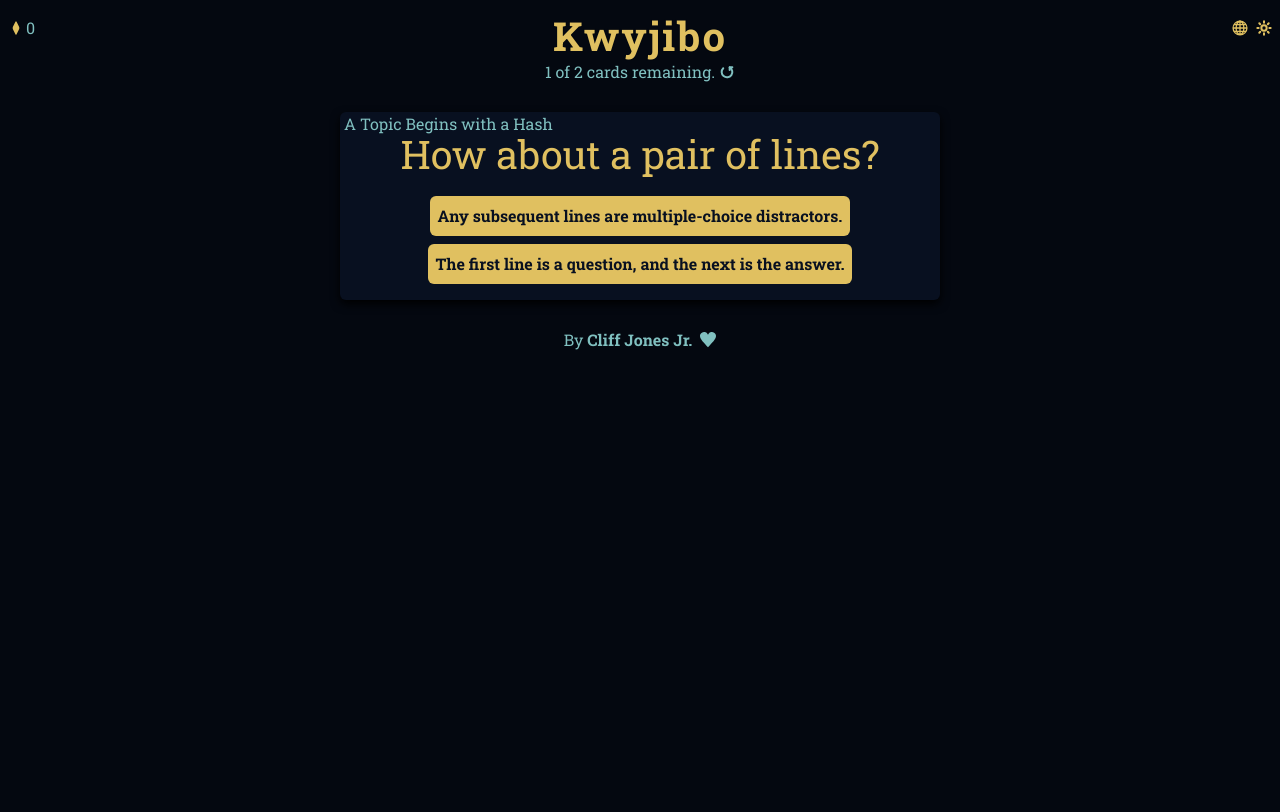
Scenario: App › renders the reset confirmation and dispatches reset when accepted
Click the button titled "Reset" at (727, 72), box [719,64,735,80]
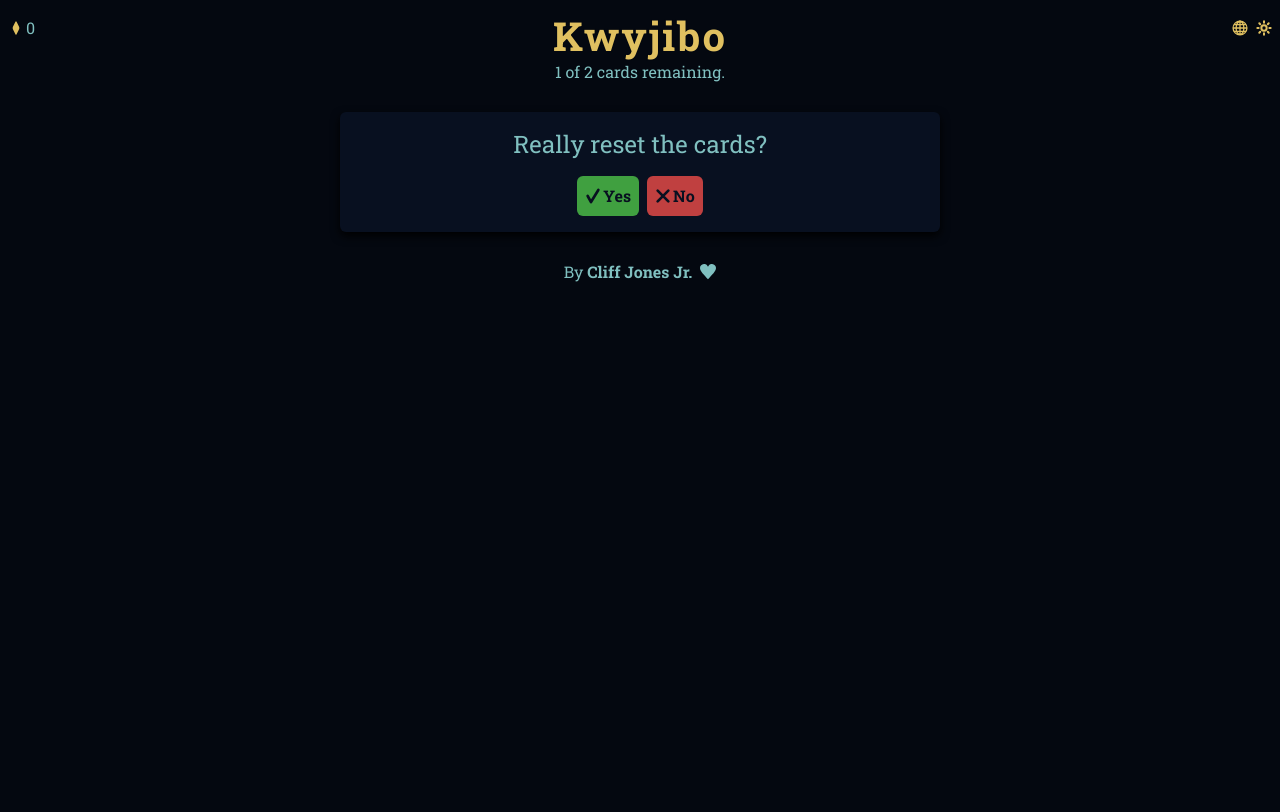
Now the heading "Really reset the cards?" is shown, box [513,128,767,160]
Click the button "Yes" at (608, 196), box [577,176,639,216]
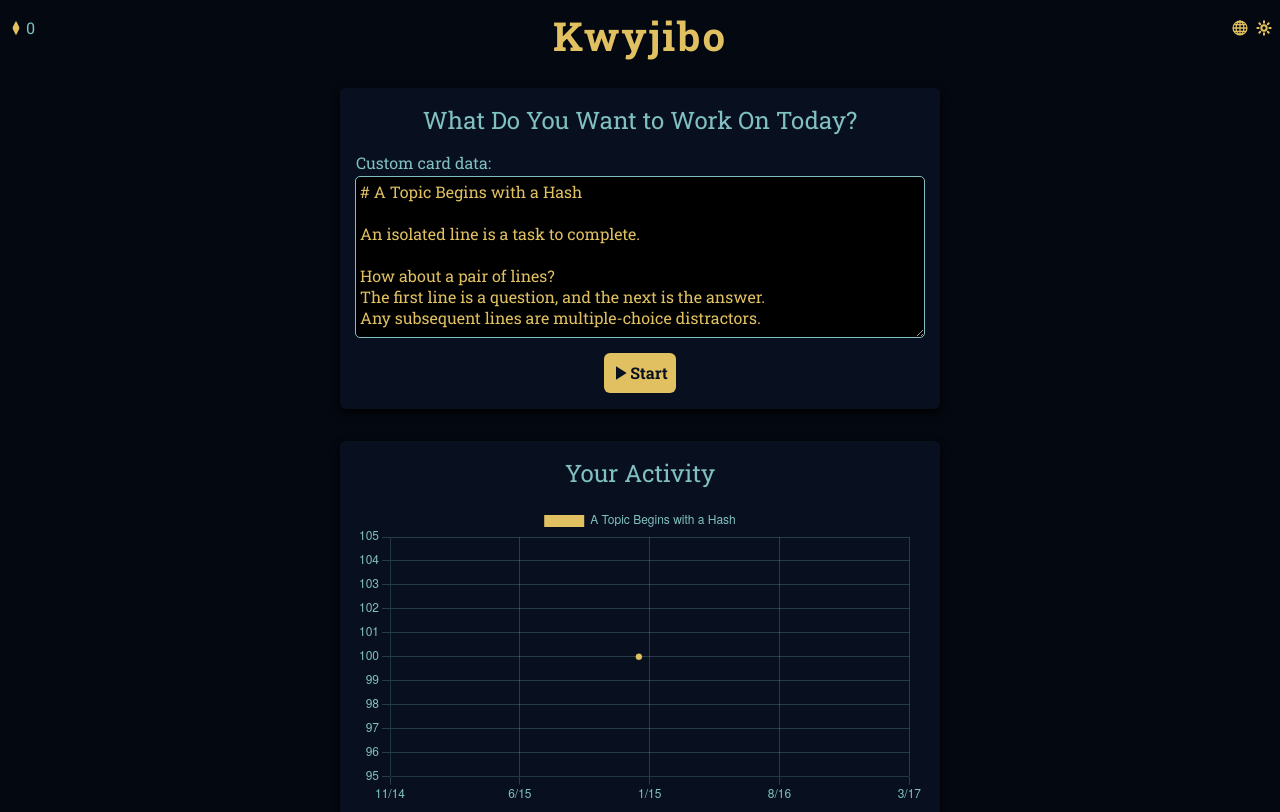
Now the heading "What Do You Want to Work On Today?" is shown, box [423,104,857,136]
